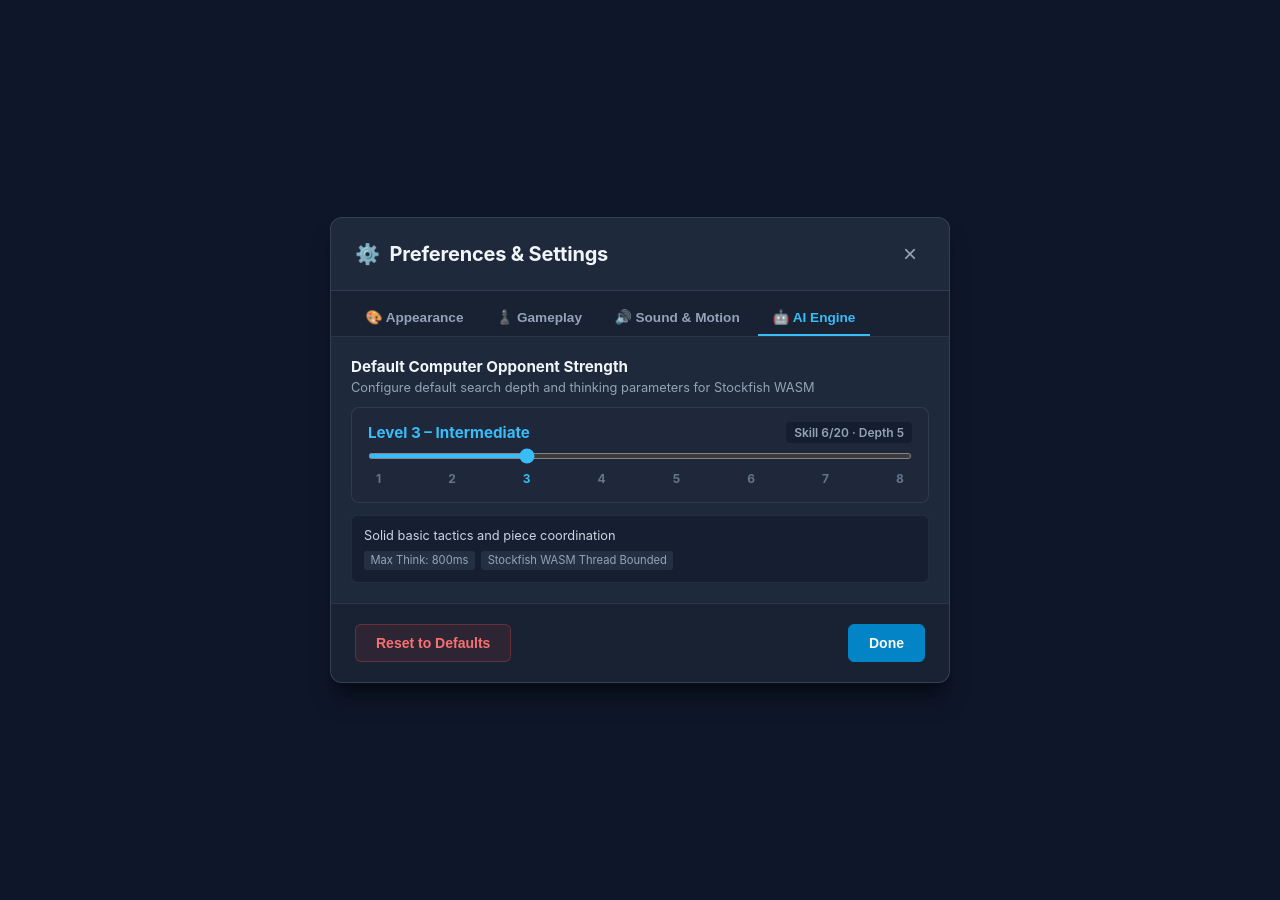
Scenario: Phase 08 · Sprint 06: SettingsModal Component & Integration (TC-SETUI-01 to TC-SETUI-20) › TC-SETUI-15: modifies engine difficulty with live preview in Engine section
Expected: the text with test id "engine-difficulty-level-label" reads "Level 3 – Intermediate", [368,423,530,442]
Set the slider with test id "slider-engine-difficulty" to "7" at {"x": 829, "y": 456}, box [368,453,912,459]
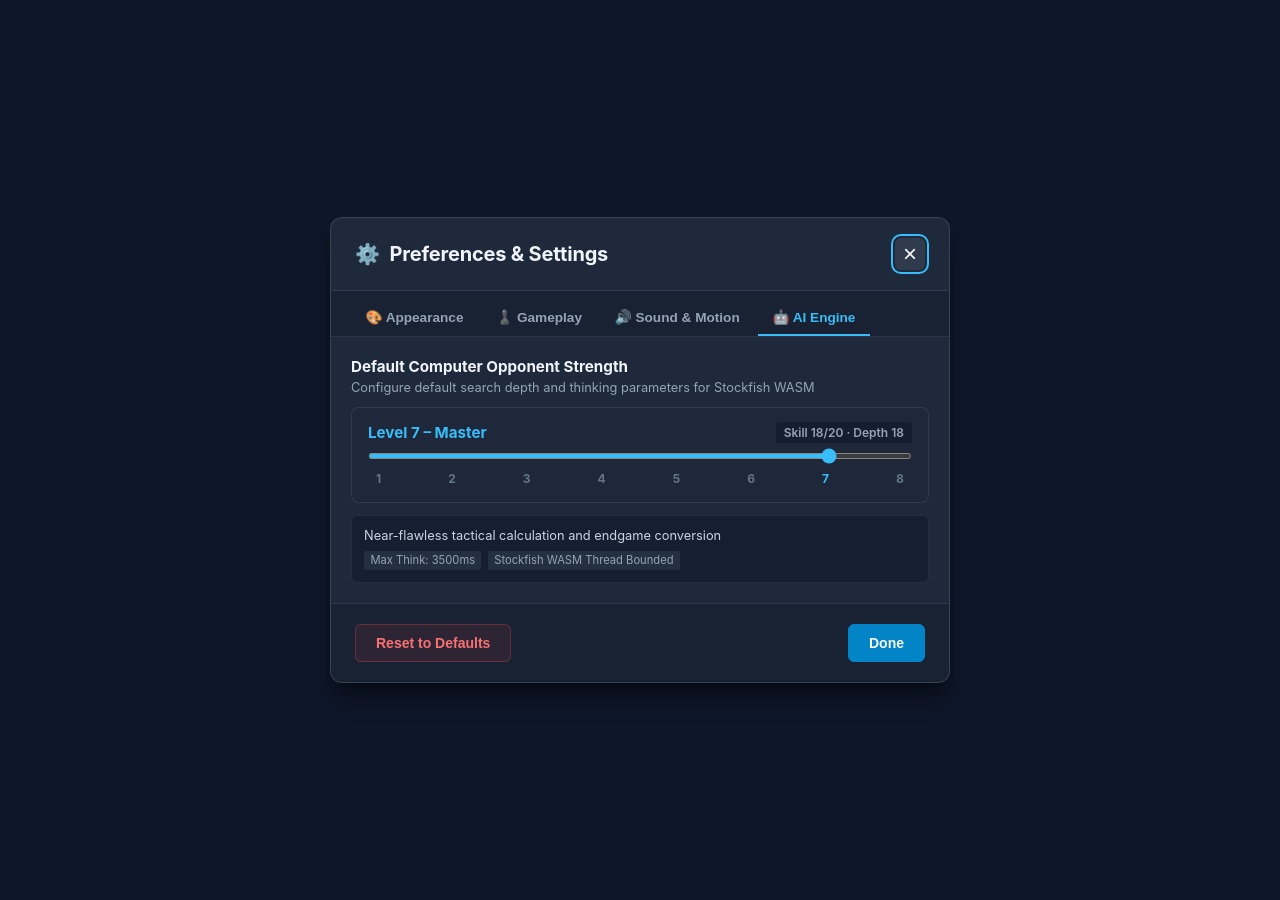
Expected: the text with test id "engine-difficulty-level-label" reads "Level 7 – Master", [368,423,487,442]
